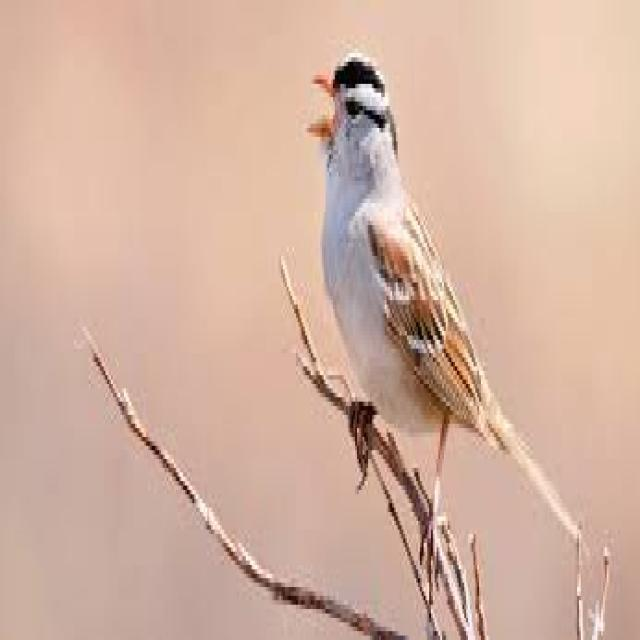Sparrow: (307, 47, 575, 549)
